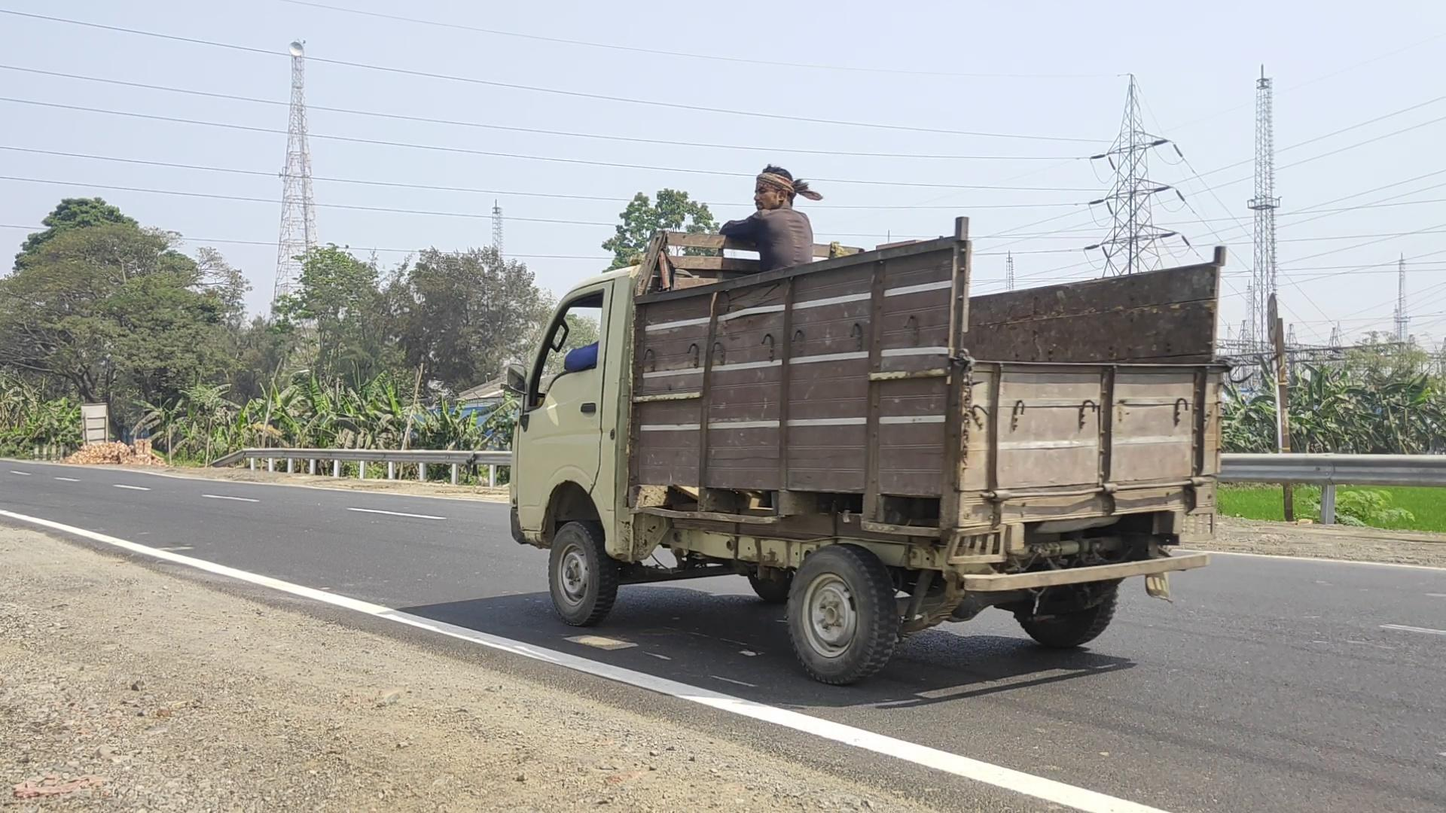van: (506, 166, 1228, 684)
